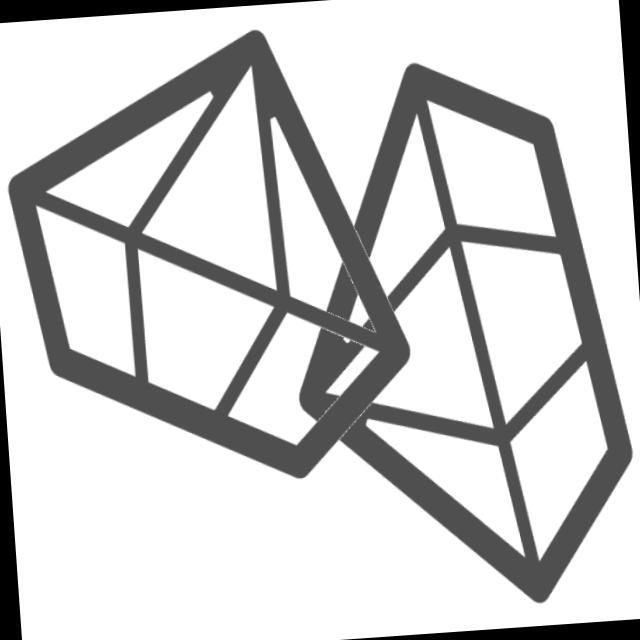diamond: (268, 38, 640, 631), (1, 13, 426, 506)
